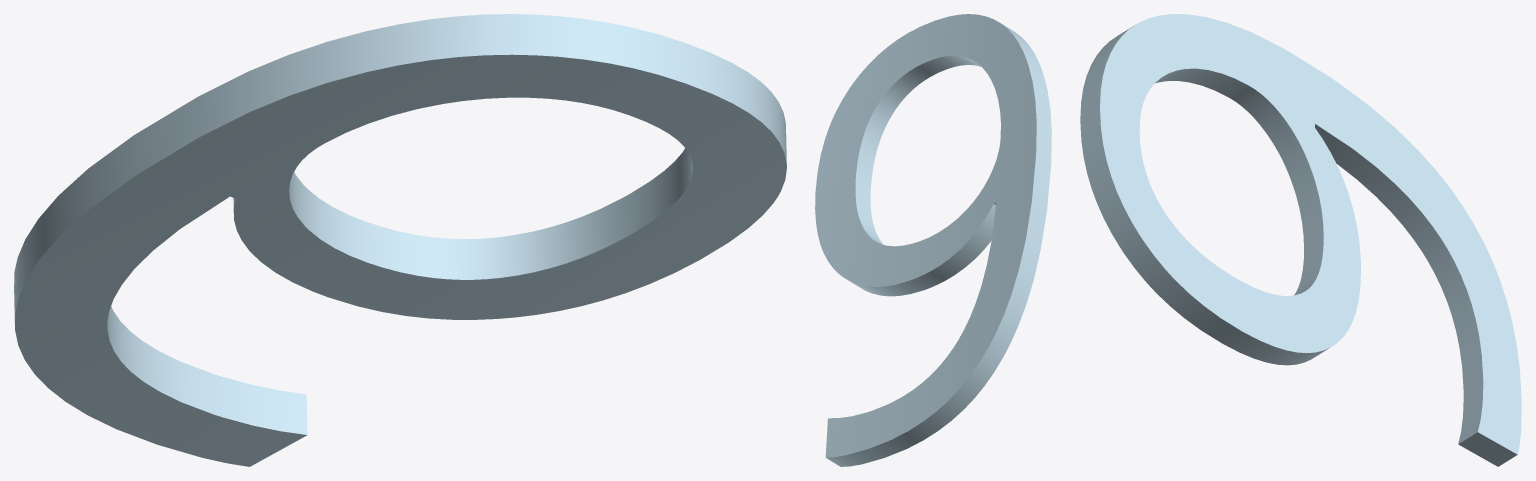
Rendered from Number_9.gltf.
The picture shows the model from 3 angles, left to right: view 1: azimuth 30°, elevation 25°; view 2: azimuth 150°, elevation 25°; view 3: azimuth 270°, elevation 25°; orthographic projection. The views are drawn at different scales.
Visible parts, largest first — view 1: Sub_5_Cell_2_2_Number_9; view 2: Sub_5_Cell_2_2_Number_9; view 3: Sub_5_Cell_2_2_Number_9.
Part boxes in pixels (<box>): Sub_5_Cell_2_2_Number_9: <box>14,14,786,466</box>; Sub_5_Cell_2_2_Number_9: <box>815,14,1051,466</box>; Sub_5_Cell_2_2_Number_9: <box>1080,14,1521,466</box>.
Bounding box in the file's own units: 0.0182 × 0.0208 × 0.0194.
